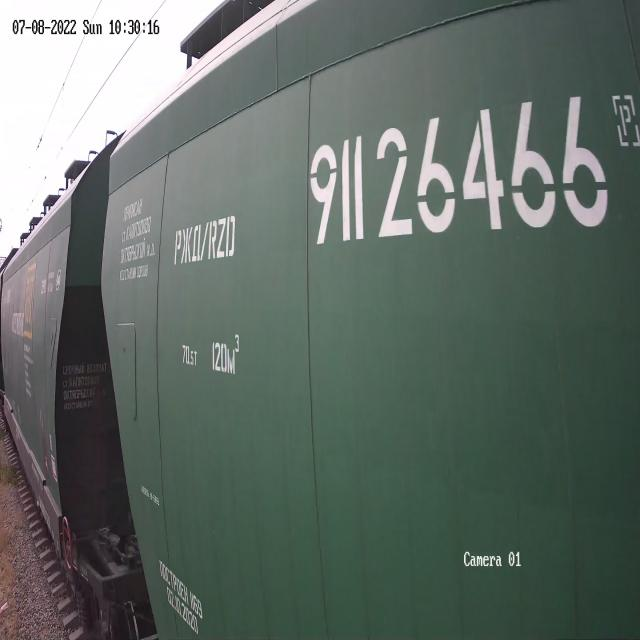hopper: (93, 0, 640, 640), (0, 122, 140, 619)
